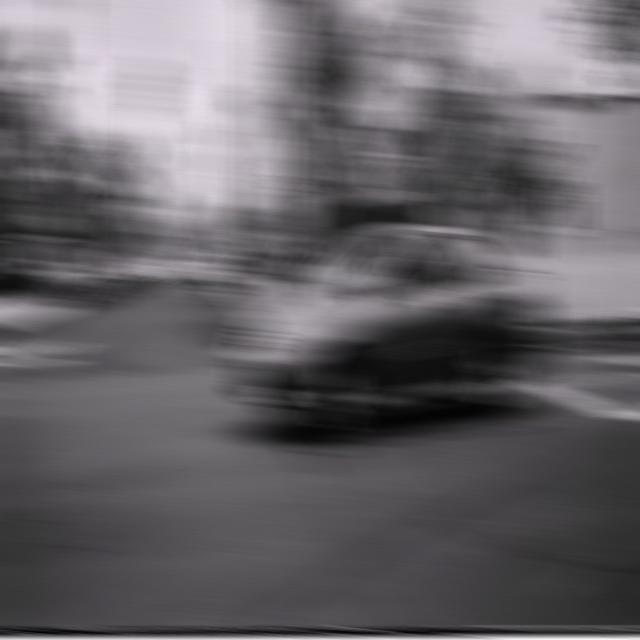speedLimit25: (274, 149, 313, 198)
